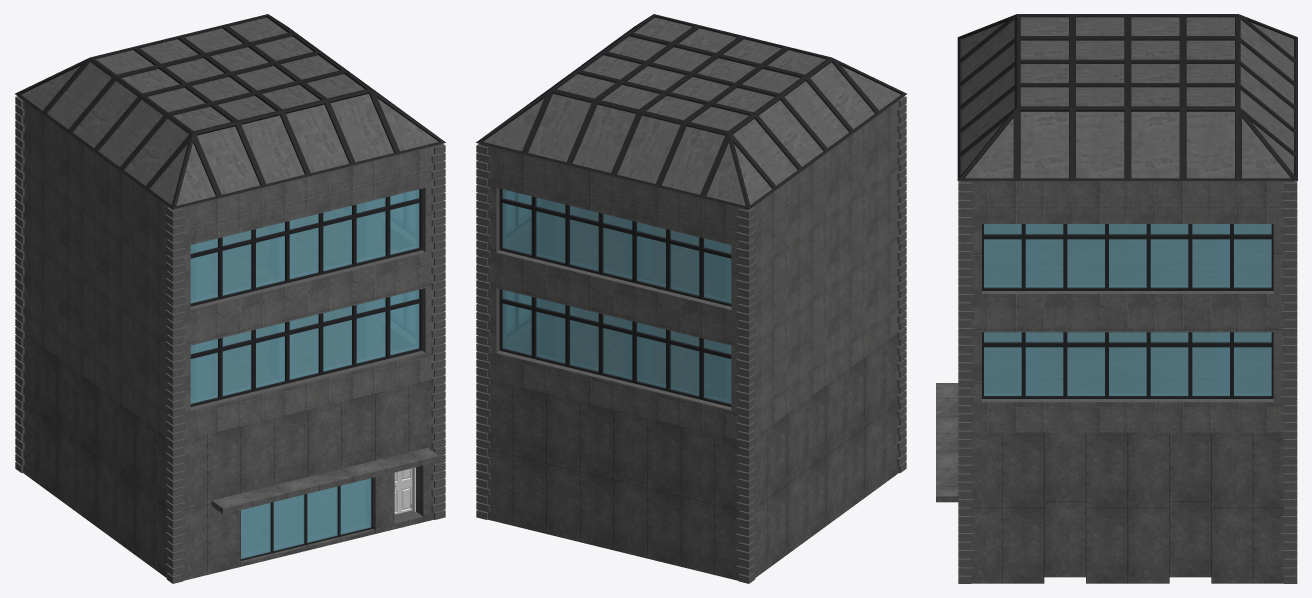
File: Building_Small_DownTown9.obj
3 renders of one model, left to right at view 1: azimuth 30°, elevation 25°; view 2: azimuth 150°, elevation 25°; view 3: azimuth 270°, elevation 25°, orthographic. The views are drawn at different scales.
Parts seen in each view (by area): view 1: Building_Small_DownTown9_Building_Small_DownTown9_Mesh_CementPan, Building_Small_DownTown9_Building_Small_DownTown9_Mesh_CementSla, Building_Small_DownTown9_Building_Small_DownTown9_Mesh_MetalPane, Building_Small_DownTown9_Building_Small_DownTown9_Mesh_Glass, Building_Small_DownTown9_Building_Small_DownTown9_Mesh_CementSmo, Building_Small_DownTown9_Building_Small_DownTown9_Mesh_MetalPain, Building_Small_DownTown9_Building_Small_DownTown9_Mesh_WoodBoard, Building_Small_DownTown9_Building_Small_DownTown9_Mesh_EpoxyBloc; view 2: Building_Small_DownTown9_Building_Small_DownTown9_Mesh_CementPan, Building_Small_DownTown9_Building_Small_DownTown9_Mesh_CementSla, Building_Small_DownTown9_Building_Small_DownTown9_Mesh_MetalPane, Building_Small_DownTown9_Building_Small_DownTown9_Mesh_CementSmo, Building_Small_DownTown9_Building_Small_DownTown9_Mesh_MetalPain, Building_Small_DownTown9_Building_Small_DownTown9_Mesh_Glass, Building_Small_DownTown9_Building_Small_DownTown9_Mesh_WoodBoard; view 3: Building_Small_DownTown9_Building_Small_DownTown9_Mesh_CementSla, Building_Small_DownTown9_Building_Small_DownTown9_Mesh_MetalPane, Building_Small_DownTown9_Building_Small_DownTown9_Mesh_CementPan, Building_Small_DownTown9_Building_Small_DownTown9_Mesh_Glass, Building_Small_DownTown9_Building_Small_DownTown9_Mesh_MetalPain, Building_Small_DownTown9_Building_Small_DownTown9_Mesh_WoodBoard, Building_Small_DownTown9_Building_Small_DownTown9_Mesh_CementSmo.
Boxes of the visible parts, bbox=[...] form: Building_Small_DownTown9_Building_Small_DownTown9_Mesh_CementPan: bbox=[18, 97, 442, 440]; Building_Small_DownTown9_Building_Small_DownTown9_Mesh_CementSla: bbox=[22, 334, 442, 580]; Building_Small_DownTown9_Building_Small_DownTown9_Mesh_MetalPane: bbox=[21, 17, 438, 205]; Building_Small_DownTown9_Building_Small_DownTown9_Mesh_Glass: bbox=[190, 189, 419, 558]; Building_Small_DownTown9_Building_Small_DownTown9_Mesh_CementSmo: bbox=[15, 96, 445, 583]; Building_Small_DownTown9_Building_Small_DownTown9_Mesh_MetalPain: bbox=[15, 14, 445, 560]; Building_Small_DownTown9_Building_Small_DownTown9_Mesh_WoodBoard: bbox=[191, 209, 395, 399]; Building_Small_DownTown9_Building_Small_DownTown9_Mesh_EpoxyBloc: bbox=[394, 467, 415, 514]; Building_Small_DownTown9_Building_Small_DownTown9_Mesh_CementPan: bbox=[479, 97, 903, 440]; Building_Small_DownTown9_Building_Small_DownTown9_Mesh_CementSla: bbox=[479, 334, 899, 580]; Building_Small_DownTown9_Building_Small_DownTown9_Mesh_MetalPane: bbox=[483, 17, 900, 205]; Building_Small_DownTown9_Building_Small_DownTown9_Mesh_CementSmo: bbox=[476, 96, 906, 583]; Building_Small_DownTown9_Building_Small_DownTown9_Mesh_MetalPain: bbox=[476, 14, 906, 406]; Building_Small_DownTown9_Building_Small_DownTown9_Mesh_Glass: bbox=[502, 189, 731, 403]; Building_Small_DownTown9_Building_Small_DownTown9_Mesh_WoodBoard: bbox=[526, 209, 730, 399]; Building_Small_DownTown9_Building_Small_DownTown9_Mesh_CementSla: bbox=[936, 383, 1294, 583]; Building_Small_DownTown9_Building_Small_DownTown9_Mesh_MetalPane: bbox=[961, 17, 1293, 178]; Building_Small_DownTown9_Building_Small_DownTown9_Mesh_CementPan: bbox=[960, 181, 1294, 432]; Building_Small_DownTown9_Building_Small_DownTown9_Mesh_Glass: bbox=[984, 224, 1271, 395]; Building_Small_DownTown9_Building_Small_DownTown9_Mesh_MetalPain: bbox=[957, 14, 1297, 398]; Building_Small_DownTown9_Building_Small_DownTown9_Mesh_WoodBoard: bbox=[984, 224, 1270, 392]; Building_Small_DownTown9_Building_Small_DownTown9_Mesh_CementSmo: bbox=[958, 181, 1297, 583].
Size of the model in its own units: 12.22 by 17.92 by 13.
9 materials, 8 textured.
